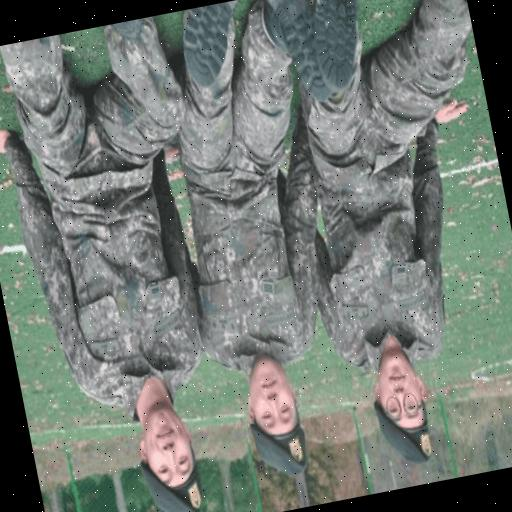korea army: (0, 8, 284, 512), (143, 0, 413, 491), (232, 0, 512, 468)
